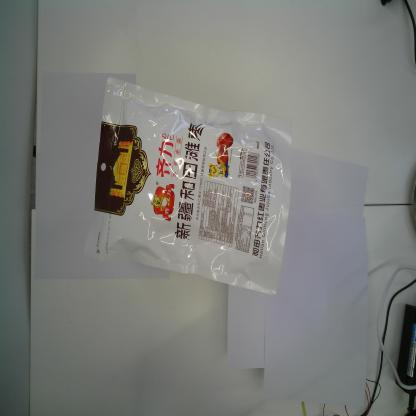Dried Food: (82, 75, 296, 300)
